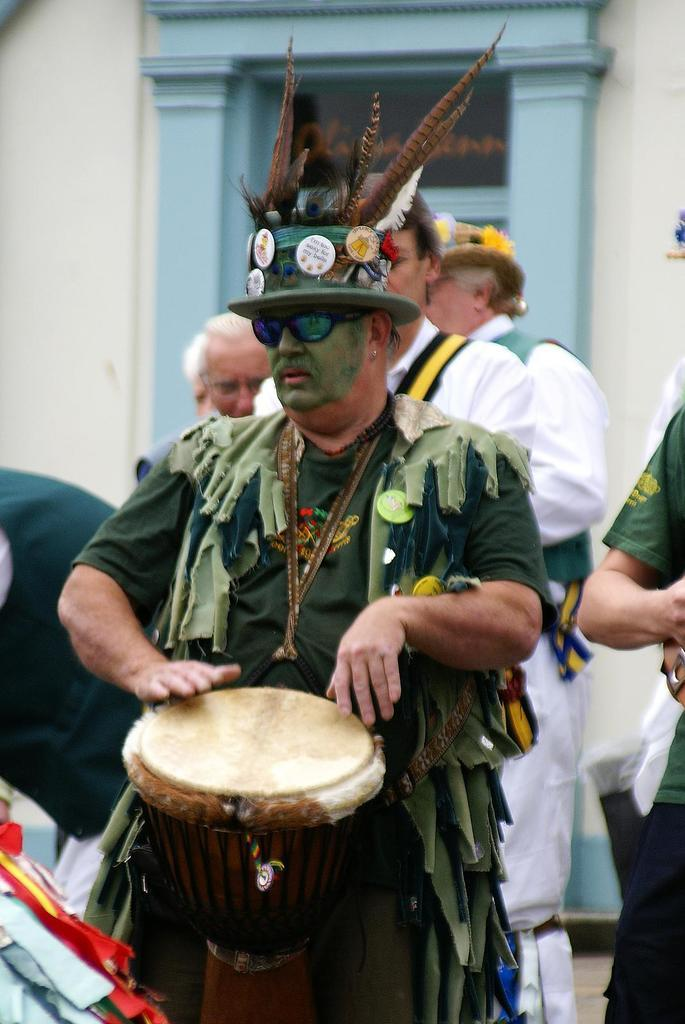no_helmet: (236, 98, 412, 314)
none: (140, 374, 500, 1010)
